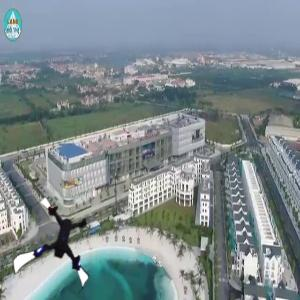drone: (18, 206, 106, 294)
